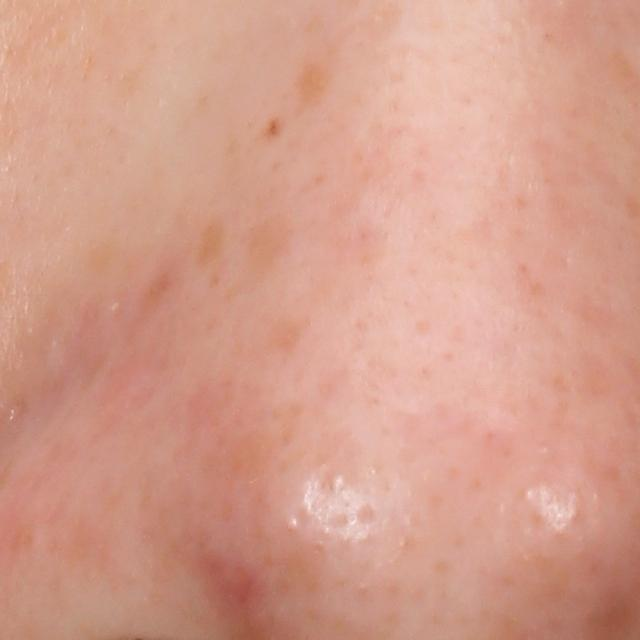melasma: (196, 425, 279, 483), (280, 36, 352, 100), (241, 218, 294, 284), (196, 194, 224, 268)
